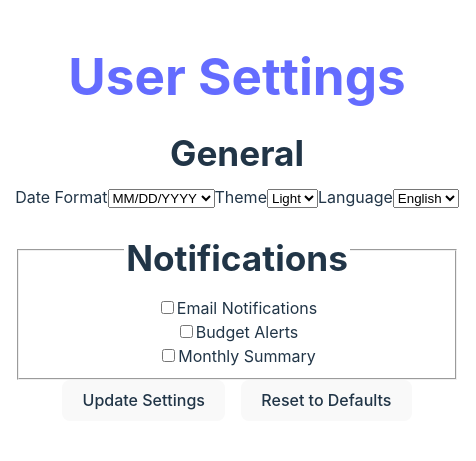
Test: UserSettings Component › Error Handling › should allow retry after failed update
First attempt fails
Select "Dark" in the dropdown labelled "Theme" at point(292, 199), box [267,189,318,208]
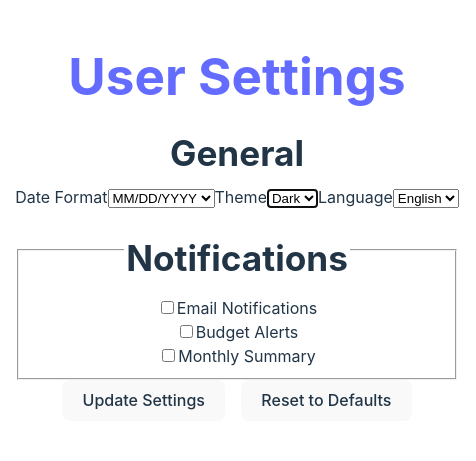
Click the button "Update Settings".
click(144, 400)  # box [62,380,225,421]
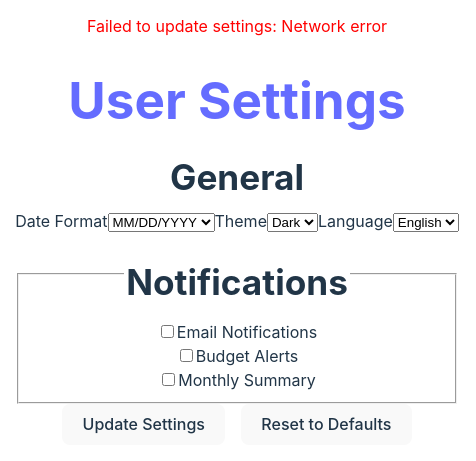
Expected: the text "Failed to update settings: Network error" is shown, [87,16,387,36]
Second attempt succeeds
Select "Light" in the dropdown labelled "Theme" at point(292, 223), box [267,213,318,232]
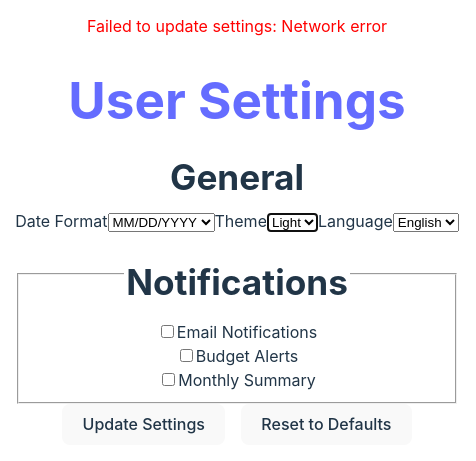
Click the button "Update Settings".
click(144, 424)  # box [62,404,225,445]
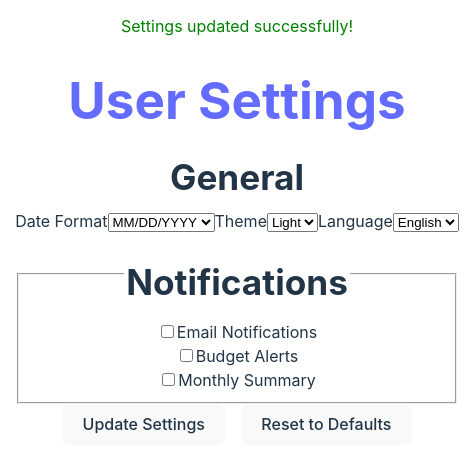
Expected: the text "Settings updated successfully!" is shown, [121,16,353,36]
